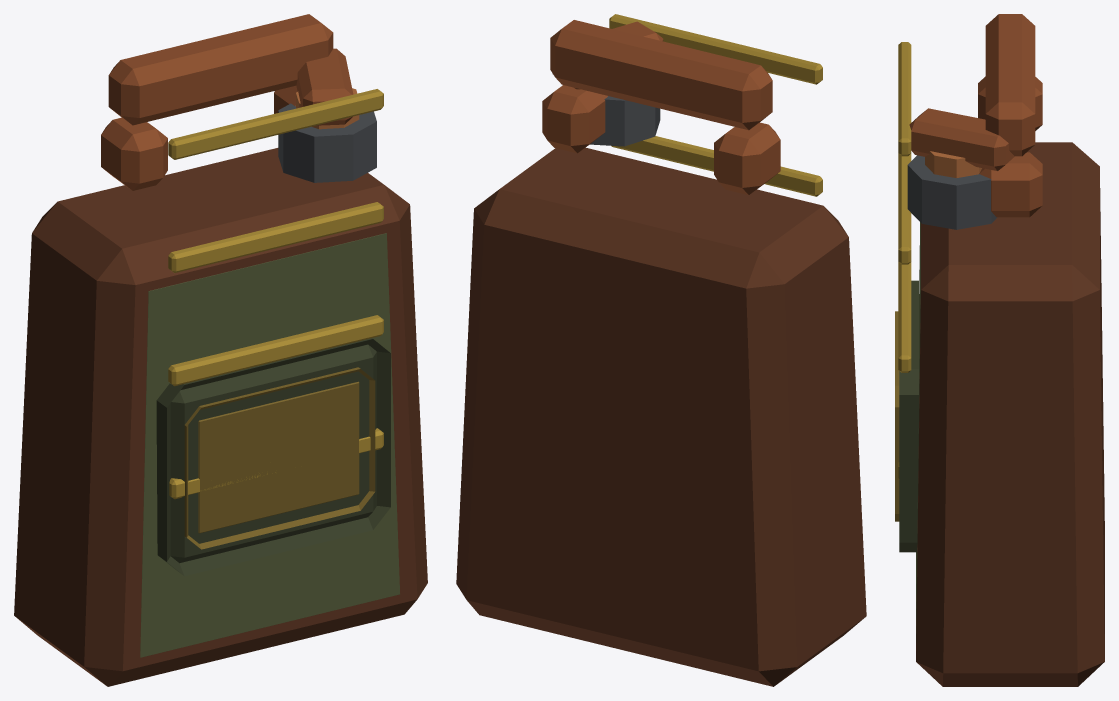
Rendered from item_fuel_can.fbx.
The picture shows the model from 3 angles, left to right: view 1: azimuth 30°, elevation 25°; view 2: azimuth 150°, elevation 25°; view 3: azimuth 270°, elevation 25°; orthographic projection. The views are drawn at different scales.
Parts seen in each view (by area): view 1: item_fuel_can; view 2: item_fuel_can; view 3: item_fuel_can.
Part boxes in pixels (x1=…): item_fuel_can: x1=14, y1=14, x2=427, y2=686; item_fuel_can: x1=456, y1=14, x2=866, y2=686; item_fuel_can: x1=895, y1=14, x2=1104, y2=686.
Bounding box in the file's own units: 0.3499 × 0.5675 × 0.1928.
